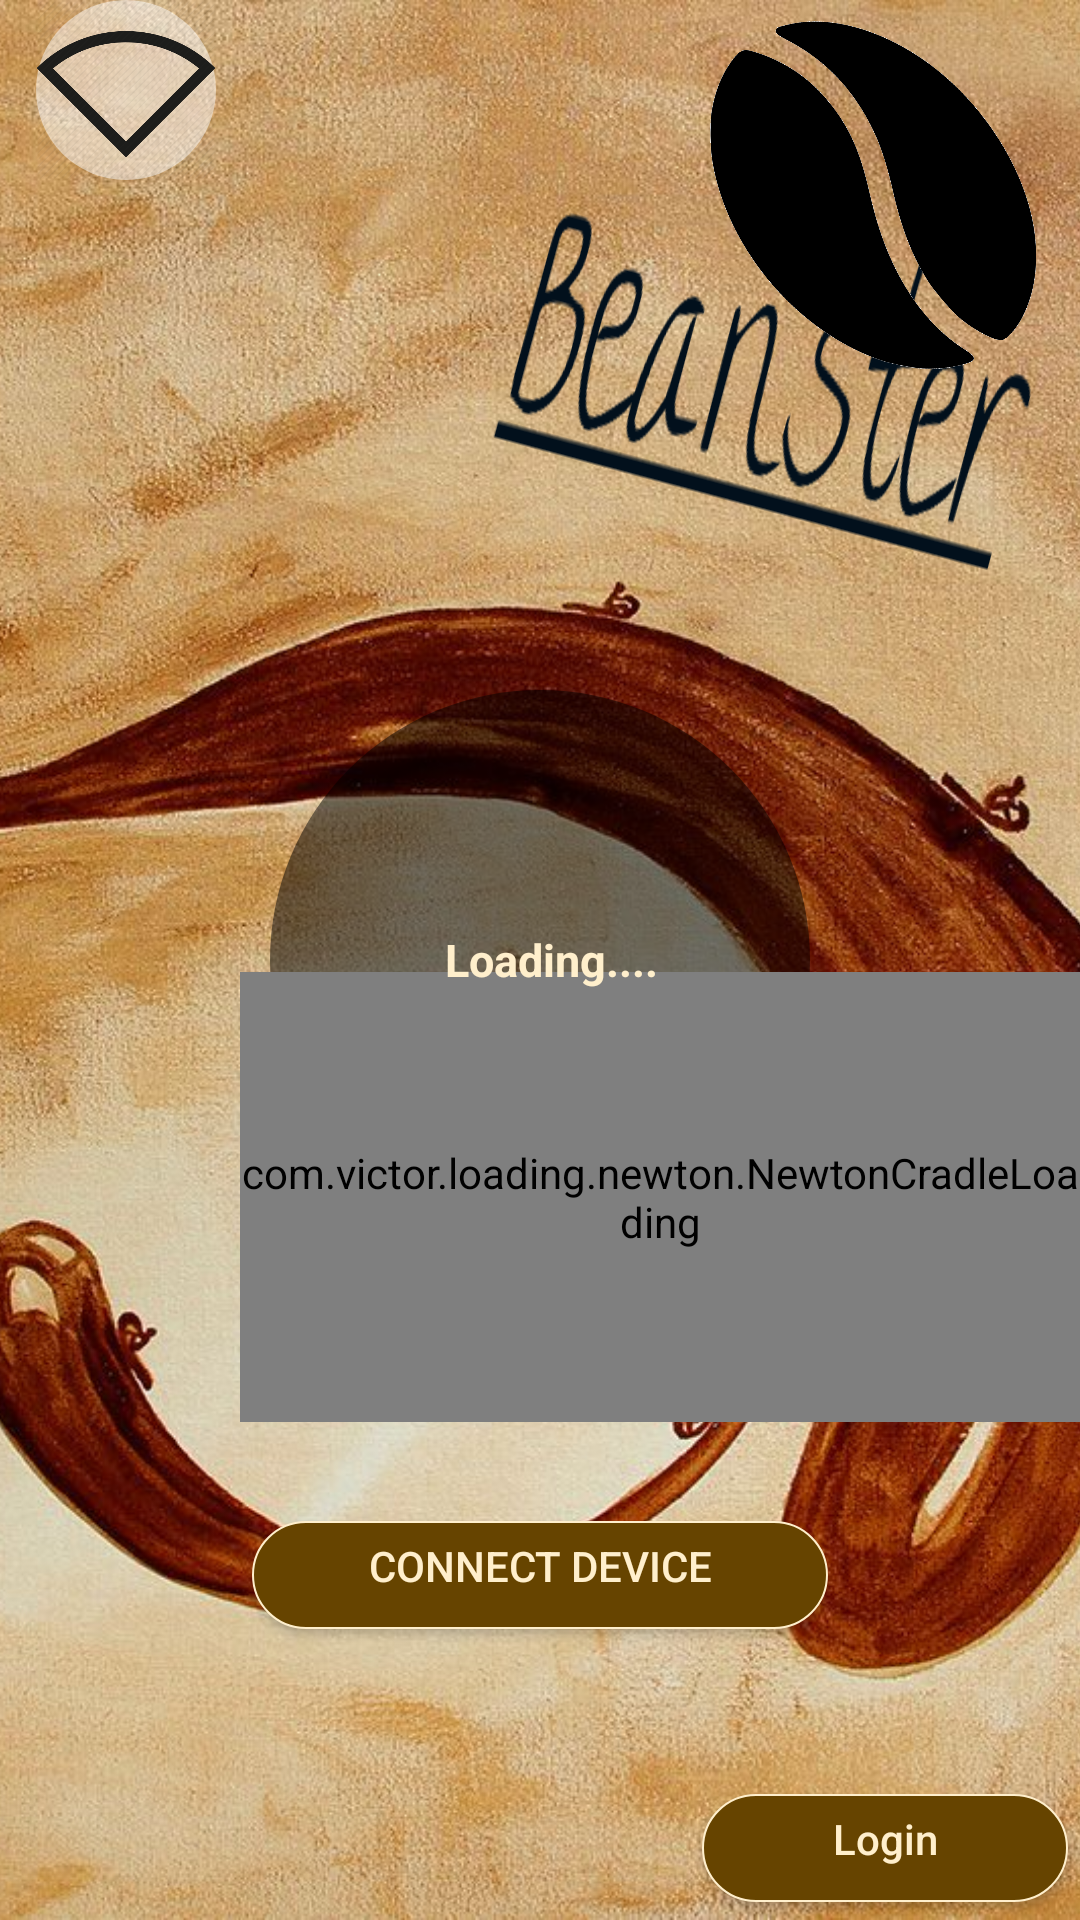

Screen size 1080w x 1920h. Icon name, then its center in pixels as (x,y):
nowifi: (126,90)
